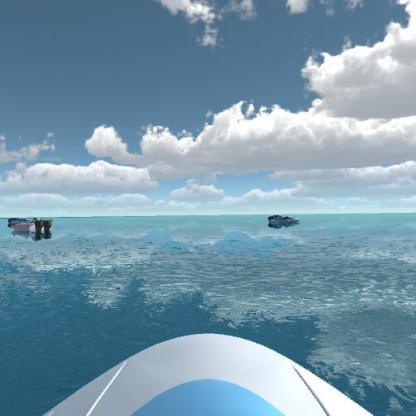usv0: (35, 215, 59, 222)
usv1: (266, 209, 303, 230), (5, 213, 27, 226)
usv3: (12, 218, 54, 239)
